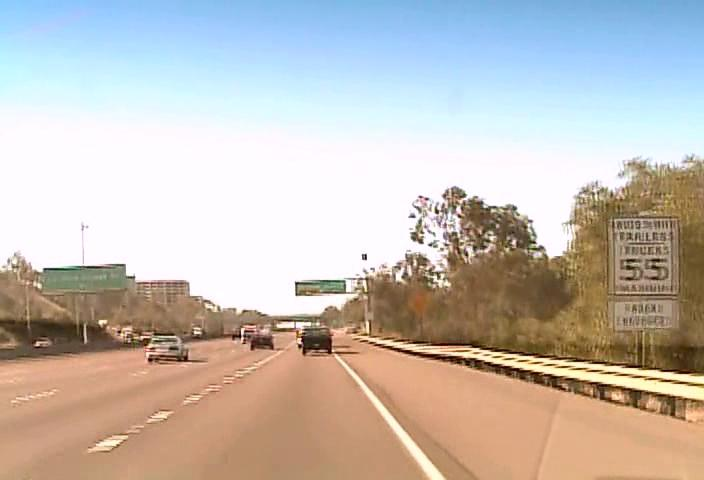truckSpeedLimit55: (610, 216, 680, 297)
